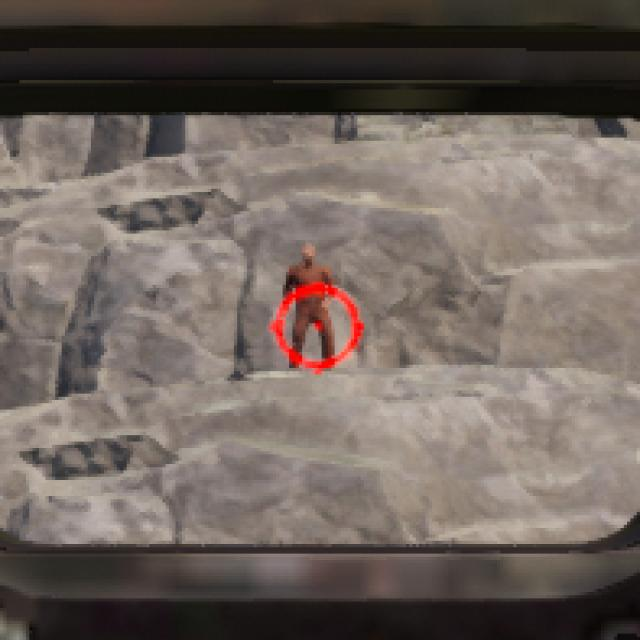Player: (281, 246, 340, 372)
